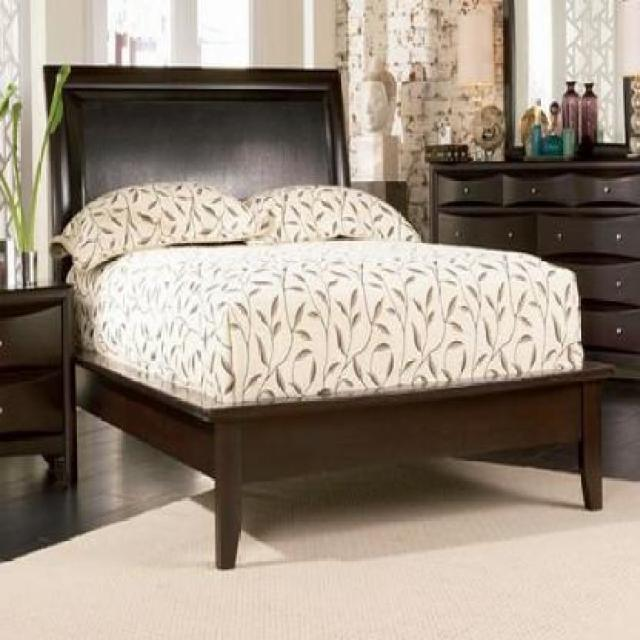Bed: (24, 51, 620, 584)
